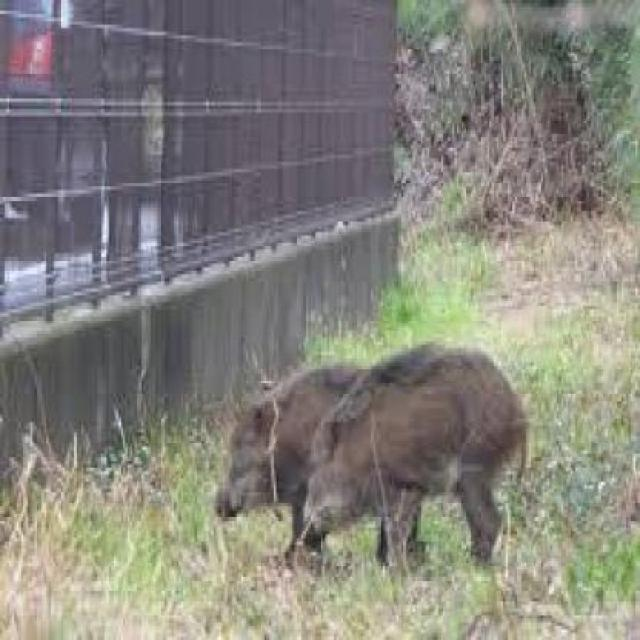wildboar: (293, 332, 555, 574), (205, 348, 398, 569)
